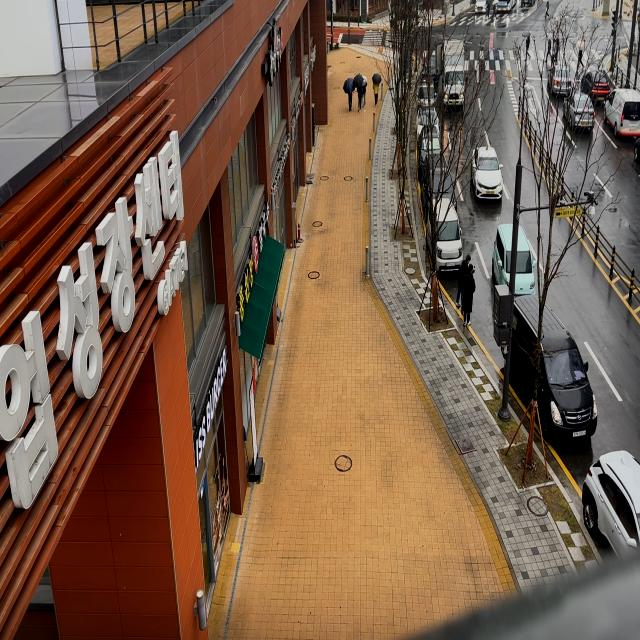Car: (501, 292, 599, 446), (581, 442, 640, 570), (486, 212, 544, 316), (425, 190, 465, 277), (466, 138, 514, 202), (600, 79, 640, 141), (422, 152, 463, 209), (414, 122, 446, 168), (562, 89, 590, 138), (582, 63, 613, 105), (414, 104, 441, 137), (547, 61, 571, 97), (418, 74, 438, 110)
Truck: (435, 36, 467, 114)
